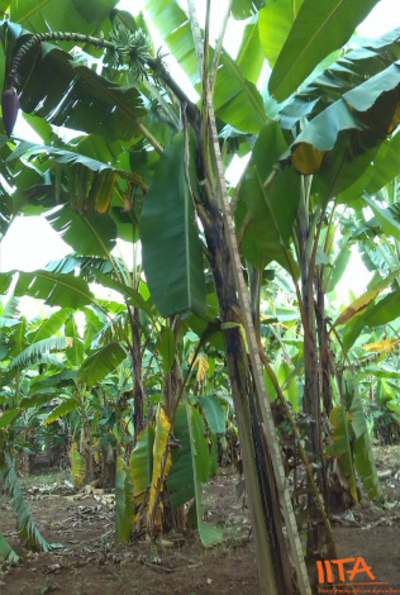bananaHand: (99, 26, 173, 88)
